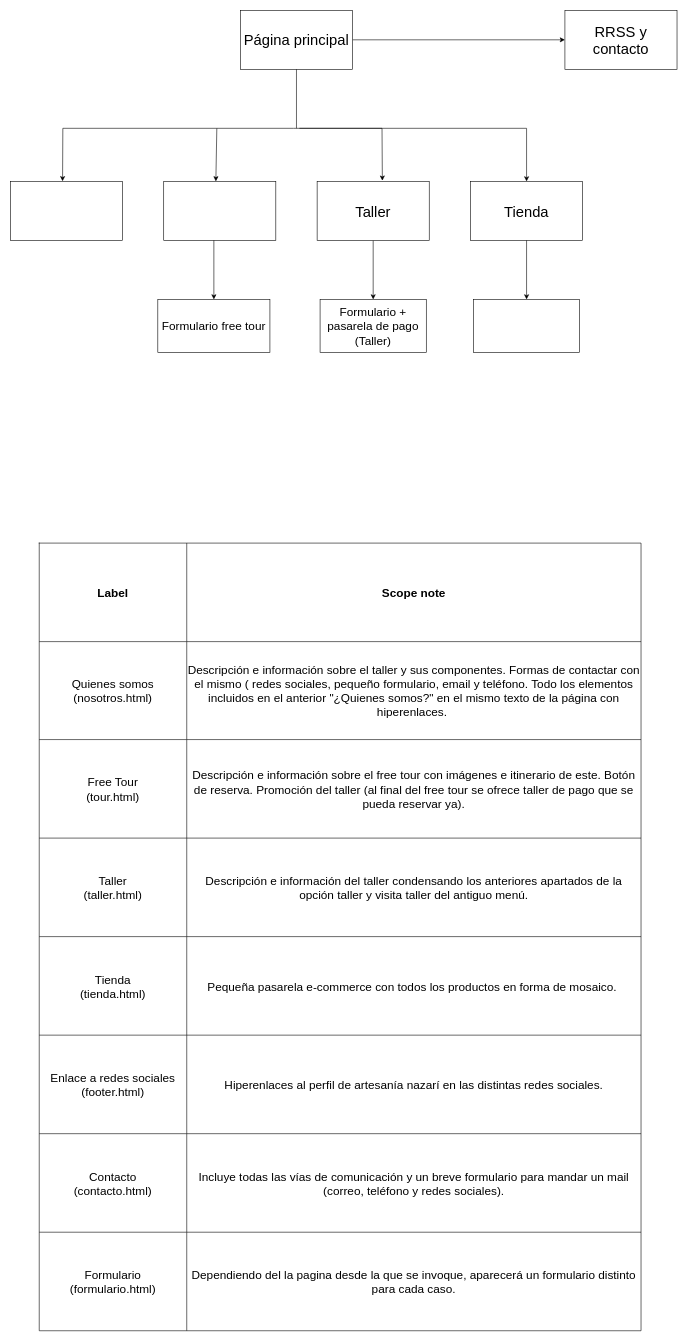
Some shapes in this 687 by 1341 pixel diagram are drawn without their labels. Here are the shapes that lost their labels. From the top down, the centre of each, then its label:
At (x=66, y=210): "¿Quiénes somos?".
At (x=219, y=210): "Free Tour".
At (x=526, y=326): "Formulario + pasarela de pago (Tienda)".
